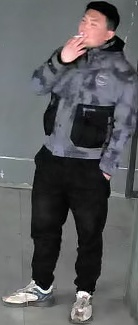smoking: (32, 1, 124, 100)
